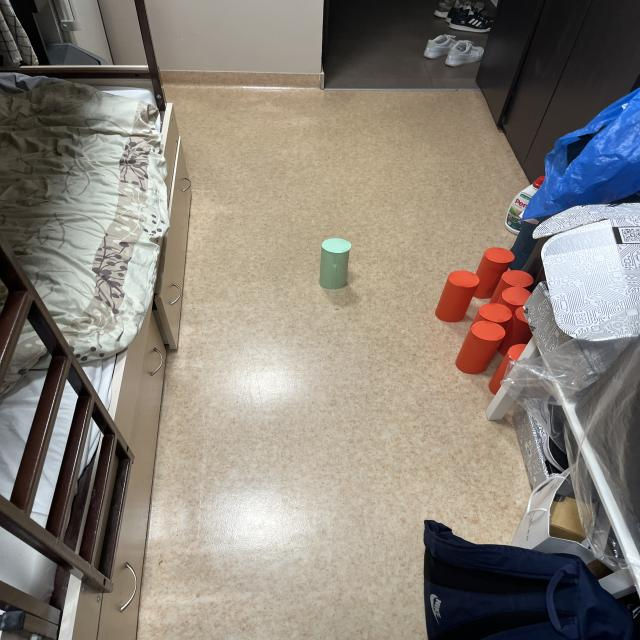meta: (319, 238, 351, 290)
